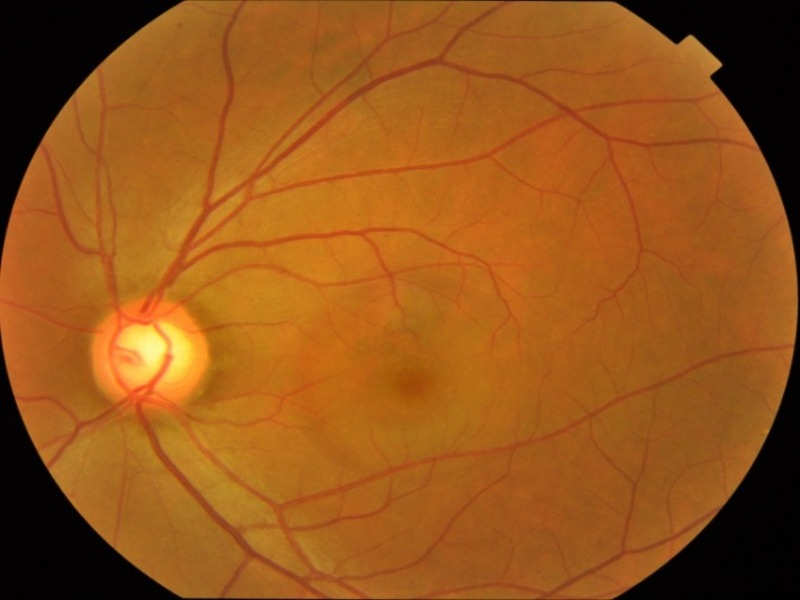Optic Cup: (123, 322, 190, 387)
Optic Disc: (93, 297, 210, 414)
